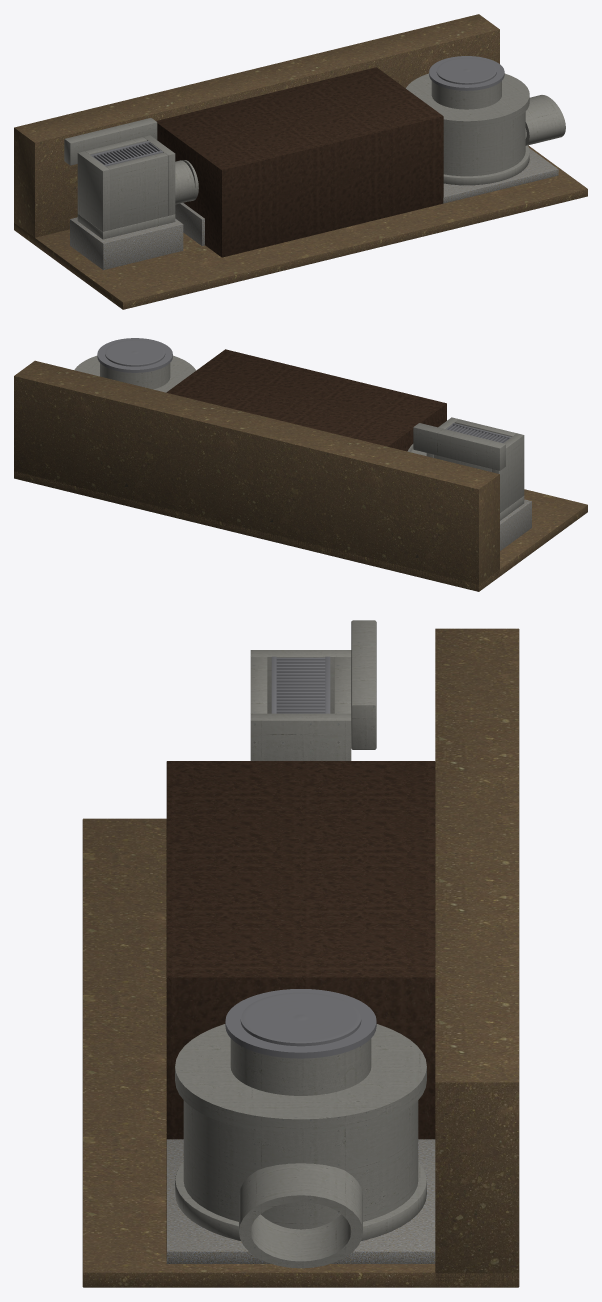
The model's file is KIT-HID-05.glb.
3 renders of one model, top to bottom at view 1: azimuth 30°, elevation 25°; view 2: azimuth 150°, elevation 25°; view 3: azimuth 270°, elevation 25°, orthographic. The views are drawn at different scales.
Parts seen in each view (by area): view 1: KIT-HID-05_reaterro, KIT-HID-05_terreno, KIT-HID-05_fundo_vala, KIT-HID-05_p1, KIT-HID-05_p0, KIT-HID-05_brita_bl, KIT-HID-05_brita_pv, KIT-HID-05_berco0; view 2: KIT-HID-05_terreno, KIT-HID-05_reaterro, KIT-HID-05_fundo_vala, KIT-HID-05_p0, KIT-HID-05_p1, KIT-HID-05_brita_bl; view 3: KIT-HID-05_reaterro, KIT-HID-05_p1, KIT-HID-05_terreno, KIT-HID-05_fundo_vala, KIT-HID-05_p0, KIT-HID-05_brita_pv.
Part boxes in pixels (<box>): KIT-HID-05_reaterro: <box>156,67,443,257</box>; KIT-HID-05_terreno: <box>14,14,499,241</box>; KIT-HID-05_fundo_vala: <box>14,145,587,309</box>; KIT-HID-05_p1: <box>406,56,565,185</box>; KIT-HID-05_p0: <box>64,118,195,239</box>; KIT-HID-05_brita_bl: <box>70,217,183,269</box>; KIT-HID-05_brita_pv: <box>443,148,558,203</box>; KIT-HID-05_berco0: <box>175,203,204,245</box>; KIT-HID-05_terreno: <box>14,360,499,591</box>; KIT-HID-05_reaterro: <box>166,349,446,451</box>; KIT-HID-05_fundo_vala: <box>14,471,587,591</box>; KIT-HID-05_p0: <box>411,417,524,520</box>; KIT-HID-05_p1: <box>74,338,195,392</box>; KIT-HID-05_brita_bl: <box>500,499,531,550</box>; KIT-HID-05_reaterro: <box>166,761,435,1139</box>; KIT-HID-05_p1: <box>175,989,426,1268</box>; KIT-HID-05_terreno: <box>435,628,519,1287</box>; KIT-HID-05_fundo_vala: <box>82,818,519,1287</box>; KIT-HID-05_p0: <box>250,620,376,760</box>; KIT-HID-05_brita_pv: <box>166,1139,435,1263</box>.
Bounding box in the file's own units: 6.63 × 1.5 × 2.6.
5 materials, 4 textured.
